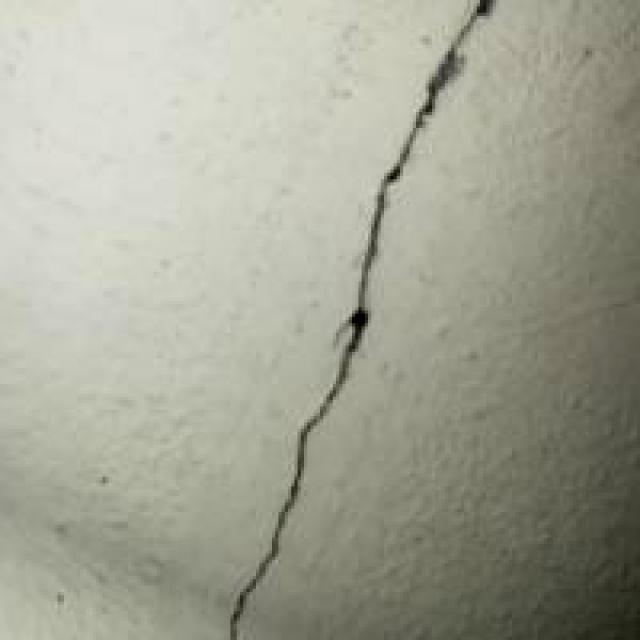SurfaceCrack: (196, 0, 528, 640)
